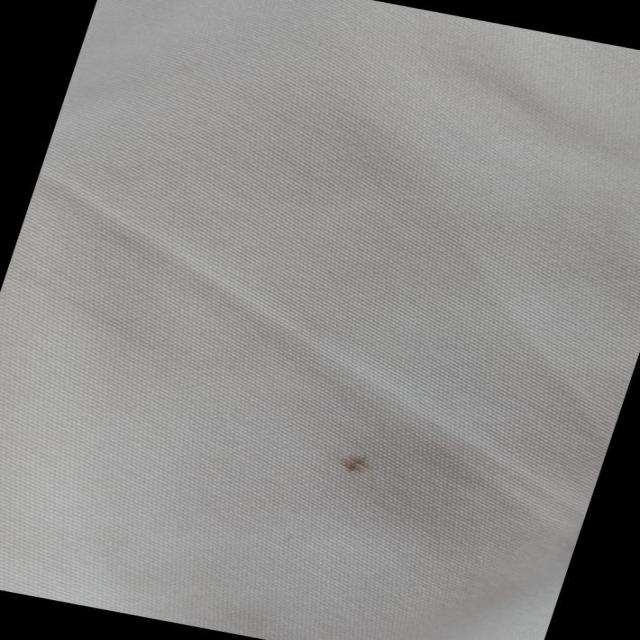stain: (322, 440, 393, 486)
